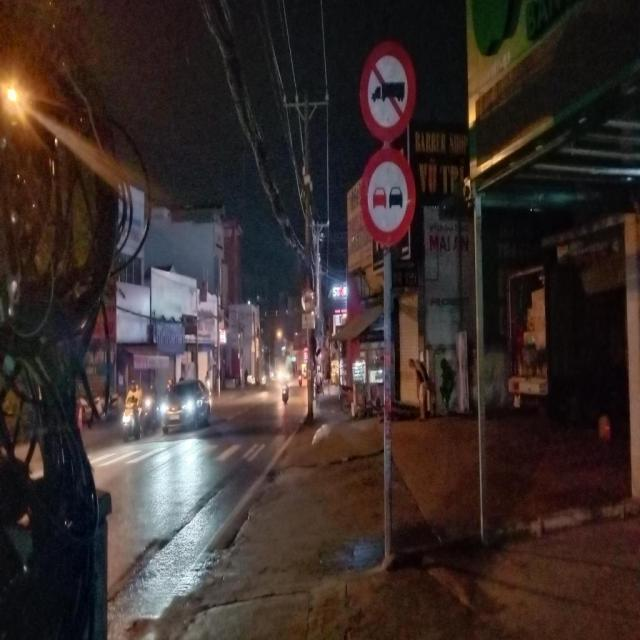cam_o_to_tai: (302, 287, 315, 312)
cam_o_to_tai_trong_luong_qua_10t: (360, 42, 418, 140)
cam_vuot: (359, 149, 416, 248)
